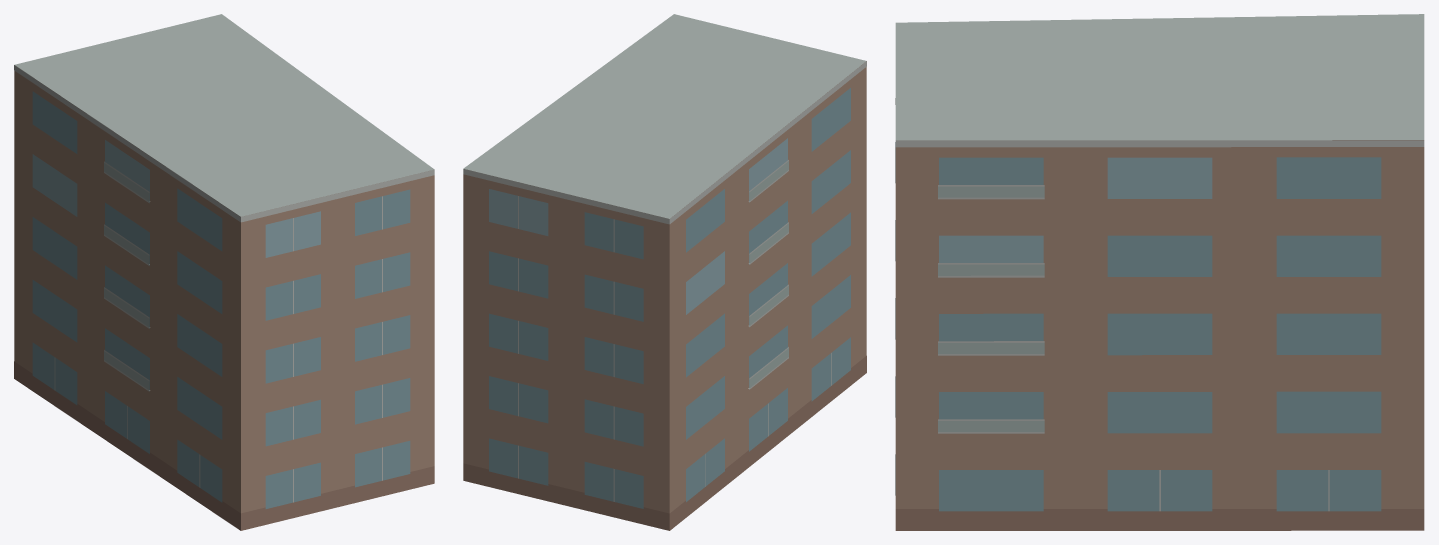
Rendered from survey-upis-32761427.glb.
The picture shows the model from 3 angles, left to right: view 1: azimuth 30°, elevation 25°; view 2: azimuth 150°, elevation 25°; view 3: azimuth 270°, elevation 25°; orthographic projection. The views are drawn at different scales.
Visible parts, largest first — view 1: survey-upis-32761427.tmp; view 2: survey-upis-32761427.tmp; view 3: survey-upis-32761427.tmp.
Part boxes in pixels (left/top/right/bottom): survey-upis-32761427.tmp: left=14, top=14, right=434, bottom=530; survey-upis-32761427.tmp: left=463, top=14, right=866, bottom=530; survey-upis-32761427.tmp: left=895, top=14, right=1424, bottom=530.
Bounding box in the file's own units: 9.49 × 13.63 × 16.75.
